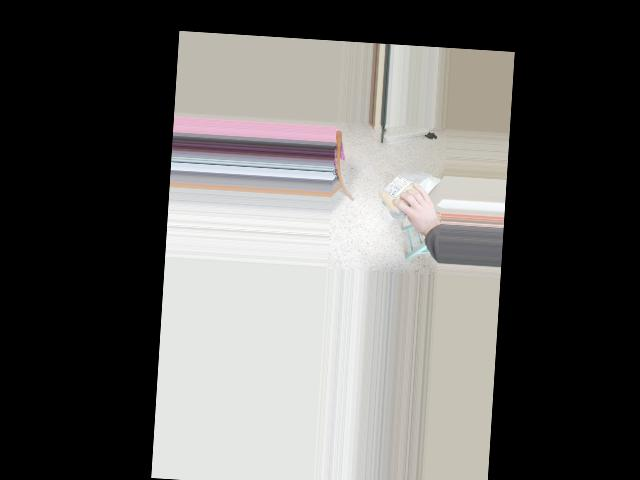cheese: (379, 170, 439, 217)
